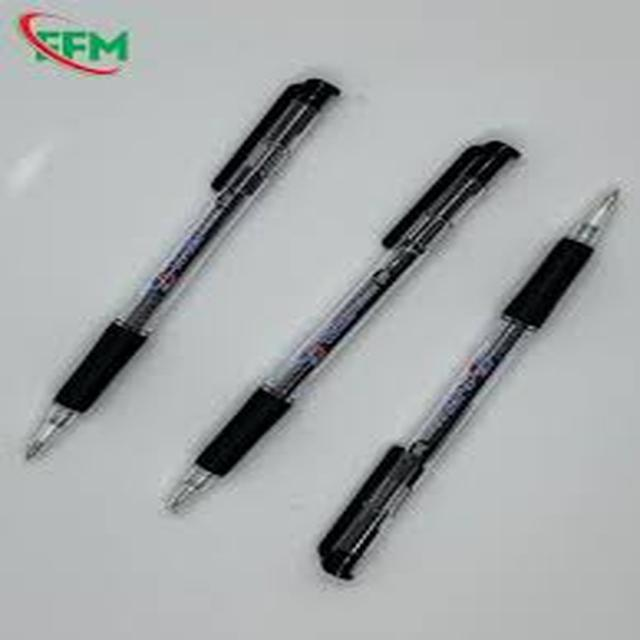pen: (133, 113, 555, 528), (0, 53, 379, 498), (284, 163, 640, 599)
